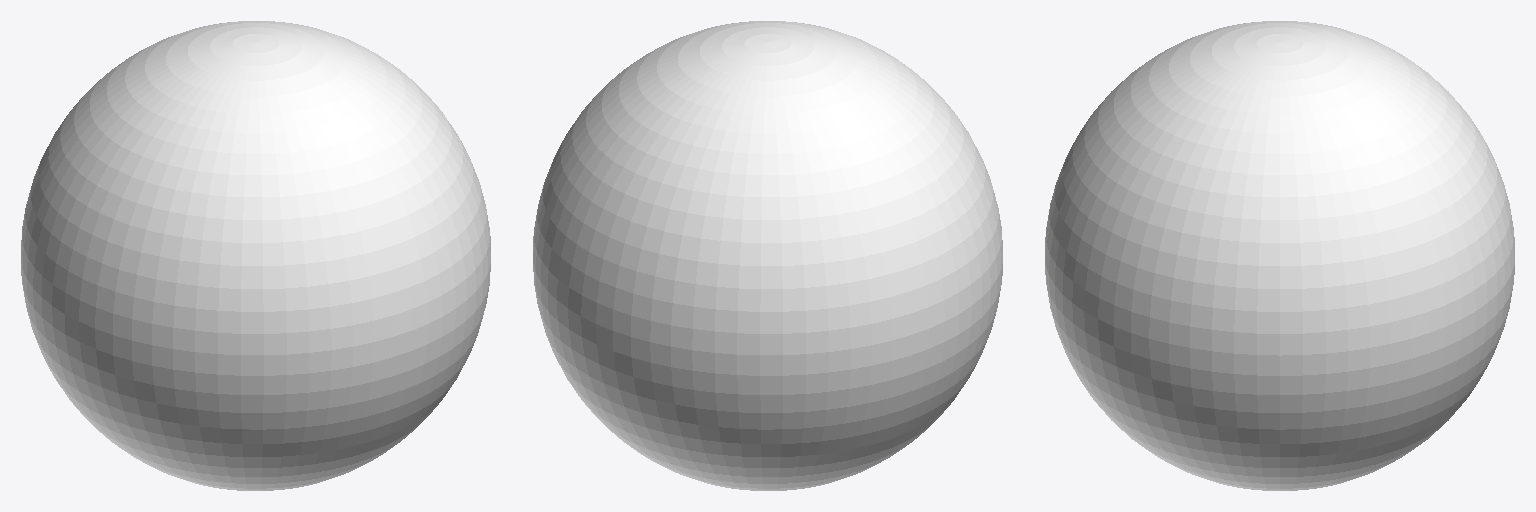
The model's file is neptune.obj.
The picture shows the model from 3 angles: view 1: azimuth 30°, elevation 25°; view 2: azimuth 150°, elevation 25°; view 3: azimuth 270°, elevation 25°; orthographic projection.
Visible parts, largest first — view 1: Sphere001.006; view 2: Sphere001.006; view 3: Sphere001.006.
Part boxes in pixels (bbox=[...]): Sphere001.006: bbox=[21, 21, 490, 490]; Sphere001.006: bbox=[533, 21, 1002, 490]; Sphere001.006: bbox=[1045, 21, 1514, 490].
Bounding box in the file's own units: 39 × 39 × 39.